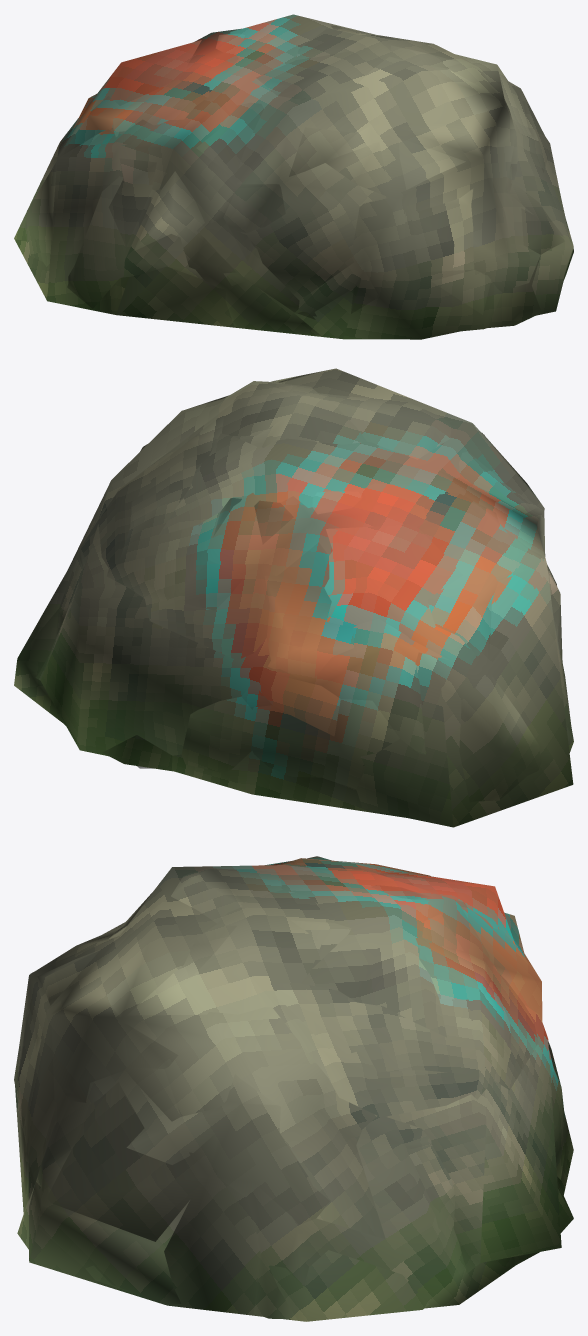
The model's file is plants_un_a_w13rock01.gltf.
3 views of the same model, one above another, from view 1: azimuth 30°, elevation 25°; view 2: azimuth 150°, elevation 25°; view 3: azimuth 270°, elevation 25° (orthographic). The views are drawn at different scales.
Visible parts, largest first — view 1: plants_un_a_w13rock01_mesh_lod2_shape:plants_un_a_w13rock01_, um_plants_un_a_w13rock01_model_lod0Shape:plants_un_a_w13rock, plants_un_a_w13rock01_mesh_lod1_shape:plants_un_a_w13rock01_; view 2: plants_un_a_w13rock01_mesh_lod2_shape:plants_un_a_w13rock01_, um_plants_un_a_w13rock01_model_lod0Shape:plants_un_a_w13rock, plants_un_a_w13rock01_mesh_lod1_shape:plants_un_a_w13rock01_; view 3: plants_un_a_w13rock01_mesh_lod2_shape:plants_un_a_w13rock01_, plants_un_a_w13rock01_mesh_lod1_shape:plants_un_a_w13rock01_, um_plants_un_a_w13rock01_model_lod0Shape:plants_un_a_w13rock.
Part boxes in pixels (left/top/right/bottom): plants_un_a_w13rock01_mesh_lod2_shape:plants_un_a_w13rock01_: left=14, top=14, right=569, bottom=339; um_plants_un_a_w13rock01_model_lod0Shape:plants_un_a_w13rock: left=25, top=25, right=569, bottom=335; plants_un_a_w13rock01_mesh_lod1_shape:plants_un_a_w13rock01_: left=25, top=28, right=573, bottom=332; plants_un_a_w13rock01_mesh_lod2_shape:plants_un_a_w13rock01_: left=35, top=368, right=573, bottom=827; um_plants_un_a_w13rock01_model_lod0Shape:plants_un_a_w13rock: left=15, top=382, right=573, bottom=801; plants_un_a_w13rock01_mesh_lod1_shape:plants_un_a_w13rock01_: left=14, top=381, right=571, bottom=817; plants_un_a_w13rock01_mesh_lod2_shape:plants_un_a_w13rock01_: left=14, top=861, right=561, bottom=1321; plants_un_a_w13rock01_mesh_lod1_shape:plants_un_a_w13rock01_: left=15, top=856, right=573, bottom=1319; um_plants_un_a_w13rock01_model_lod0Shape:plants_un_a_w13rock: left=16, top=858, right=573, bottom=1318.
Bounding box in the file's own units: 2.07 × 1.01 × 1.68.
2 materials, 1 textured.
